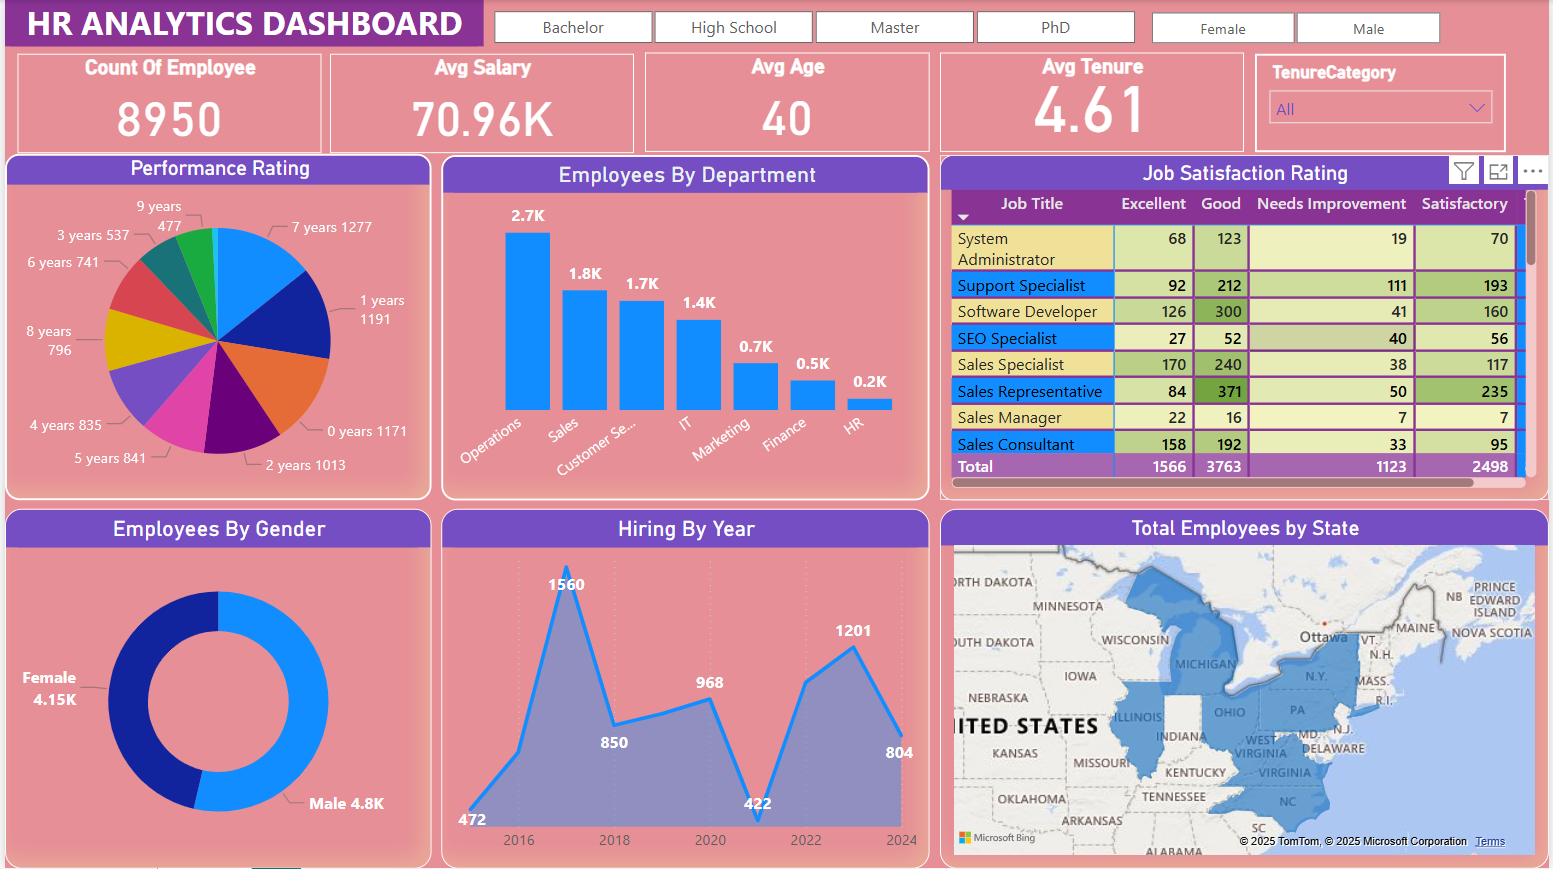

What the dashboard file says about the page in this screenshot:
{"tool":"powerbi","page":{"name":"Page 1","canvas":[1280,720],"ordinal":0},"visuals":[{"type":"card","title":"Count Of Employee","fields":{"Values":["CountNonNull(HumanResourcesCSV.Employee_ID)"]},"box":[10.5,44.2,252.3,82.6],"z":0},{"type":"card","title":"Avg Salary","fields":{"Values":["Avg(HumanResourcesCSV.Salary)"]},"box":[269.8,44.2,252.3,82.6],"z":1000},{"type":"card","title":"Avg Age","fields":{"Values":["Avg(HumanResourcesCSV.Age)"]},"box":[530.2,43,236,82.6],"z":2000},{"type":"donutChart","title":"Employees By Gender","fields":{"Category":["HumanResourcesCSV.Gender"],"Y":["CountNonNull(HumanResourcesCSV.Employee_ID)"]},"box":[0,421.8,353.4,298.4],"z":3000},{"type":"columnChart","title":"Employees By Department","fields":{"Category":["HumanResourcesCSV.Department"],"Y":["CountNonNull(HumanResourcesCSV.Employee_ID)"]},"box":[361.7,128.5,405.2,286],"z":4000},{"type":"pivotTable","title":"Job Satisfaction Rating","fields":{"Rows":["HumanResourcesCSV.Job Title"],"Columns":["HumanResourcesCSV.Performance Rating"],"Values":["CountNonNull(HumanResourcesCSV.Employee_ID)"]},"box":[775.1,128.5,504.7,286],"z":5000},{"type":"areaChart","title":"Hiring By Year","fields":{"Category":["HumanResourcesCSV.Hiredate.Variation.Date Hierarchy.Year"],"Y":["CountNonNull(HumanResourcesCSV.Employee_ID)"]},"box":[361.7,421.8,405.2,298.4],"z":6000},{"type":"filledMap","title":"Total Employees by State","fields":{"Category":["HumanResourcesCSV.State"]},"box":[775.1,421.8,504.7,298.4],"z":7000},{"type":"pieChart","title":"Performance Rating ","fields":{"Y":["CountNonNull(HumanResourcesCSV.Employee_ID)"],"Category":["HumanResourcesCSV.TenureCategory"]},"box":[0,127.9,353.5,287.2],"z":8000},{"type":"textbox","title":"HR ANALYTICS DASHBOARD","box":[0,0,397,38],"z":9000},{"type":"slicer","fields":{"Values":["HumanResourcesCSV.Education Level"]},"box":[379.1,2.3,581.4,38.4],"z":10000},{"type":"slicer","fields":{"Values":["HumanResourcesCSV.Gender"]},"box":[924.4,3.5,289.5,38.4],"z":11000},{"type":"slicer","fields":{"Values":["HumanResourcesCSV.TenureCategory"]},"box":[1036,44.2,208.1,81.4],"z":12000},{"type":"card","title":"Avg Tenure","fields":{"Values":["HumanResourcesCSV.AvgTenure"]},"box":[775.6,43,252.3,82.6],"z":13000}]}

Visuals, with their boxes in screenshot pixels (x1, y1, x2, y2), scaled from the page's 1280x720 canvas onto the 1553x869 screenshot:
"Count Of Employee" card: <box>13,53,319,153</box>
"Avg Salary" card: <box>327,53,633,153</box>
"Avg Age" card: <box>643,52,930,152</box>
"Employees By Gender" donutChart: <box>0,509,429,868</box>
"Employees By Department" columnChart: <box>439,155,930,500</box>
"Job Satisfaction Rating" pivotTable: <box>940,155,1552,500</box>
"Hiring By Year" areaChart: <box>439,509,930,868</box>
"Total Employees by State" filledMap: <box>940,509,1552,868</box>
"Performance Rating " pieChart: <box>0,154,429,501</box>
"HR ANALYTICS DASHBOARD" textbox: <box>0,0,482,46</box>
slicer - HumanResourcesCSV.Education Level: <box>460,3,1165,49</box>
slicer - HumanResourcesCSV.Gender: <box>1122,4,1473,51</box>
slicer - HumanResourcesCSV.TenureCategory: <box>1257,53,1509,152</box>
"Avg Tenure" card: <box>941,52,1247,152</box>
